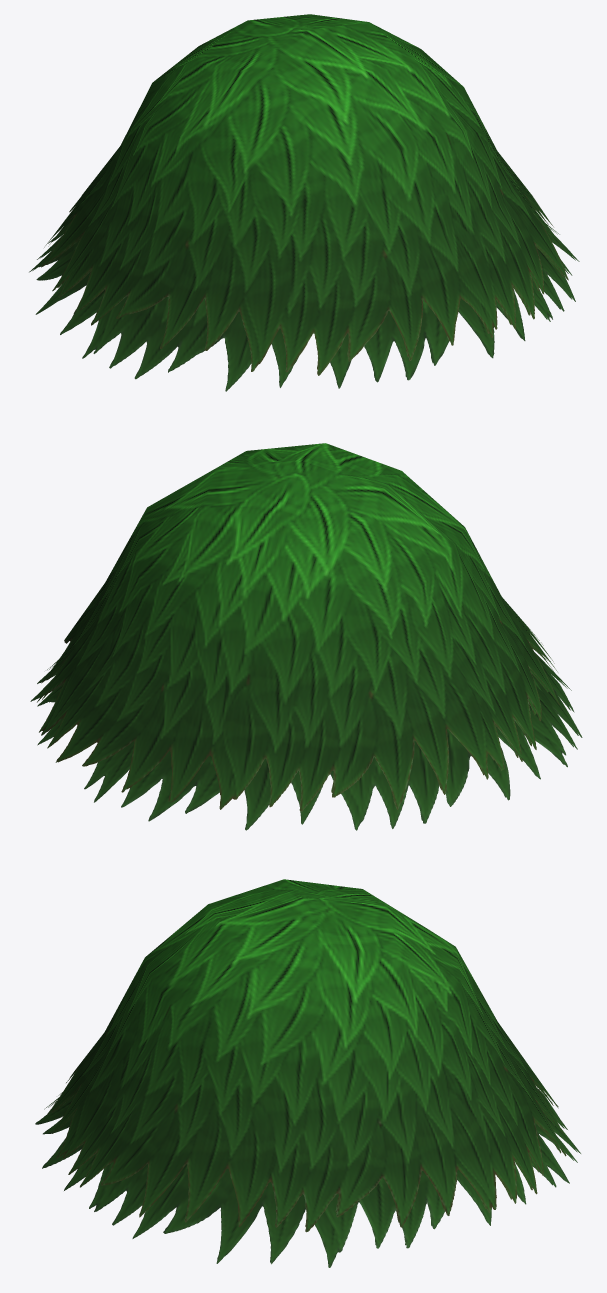
The model's file is Bush.fbx.
3 renders of one model, top to bottom at view 1: azimuth 30°, elevation 25°; view 2: azimuth 150°, elevation 25°; view 3: azimuth 270°, elevation 25°, orthographic. The views are drawn at different scales.
Visible parts, largest first — view 1: pCube25; view 2: pCube25; view 3: pCube25.
Part boxes in pixels (<box>): pCube25: <box>29,14,579,391</box>; pCube25: <box>30,443,582,830</box>; pCube25: <box>35,879,580,1267</box>.
Size of the model in its own units: 0.8606 by 0.4253 by 0.8606.
